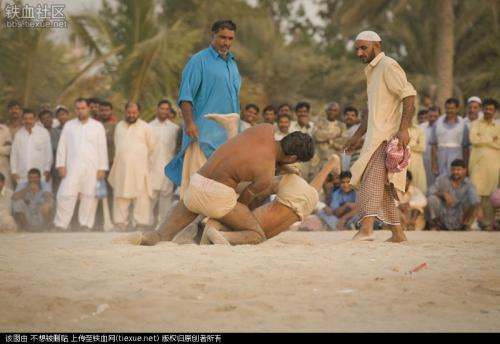10+: (1, 13, 496, 251)
down: (107, 119, 323, 255), (167, 106, 345, 248)
